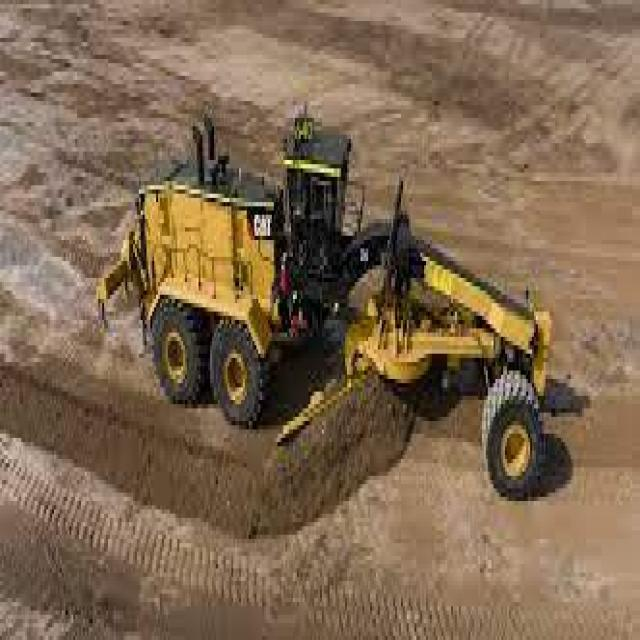Grader: (92, 101, 565, 590)
